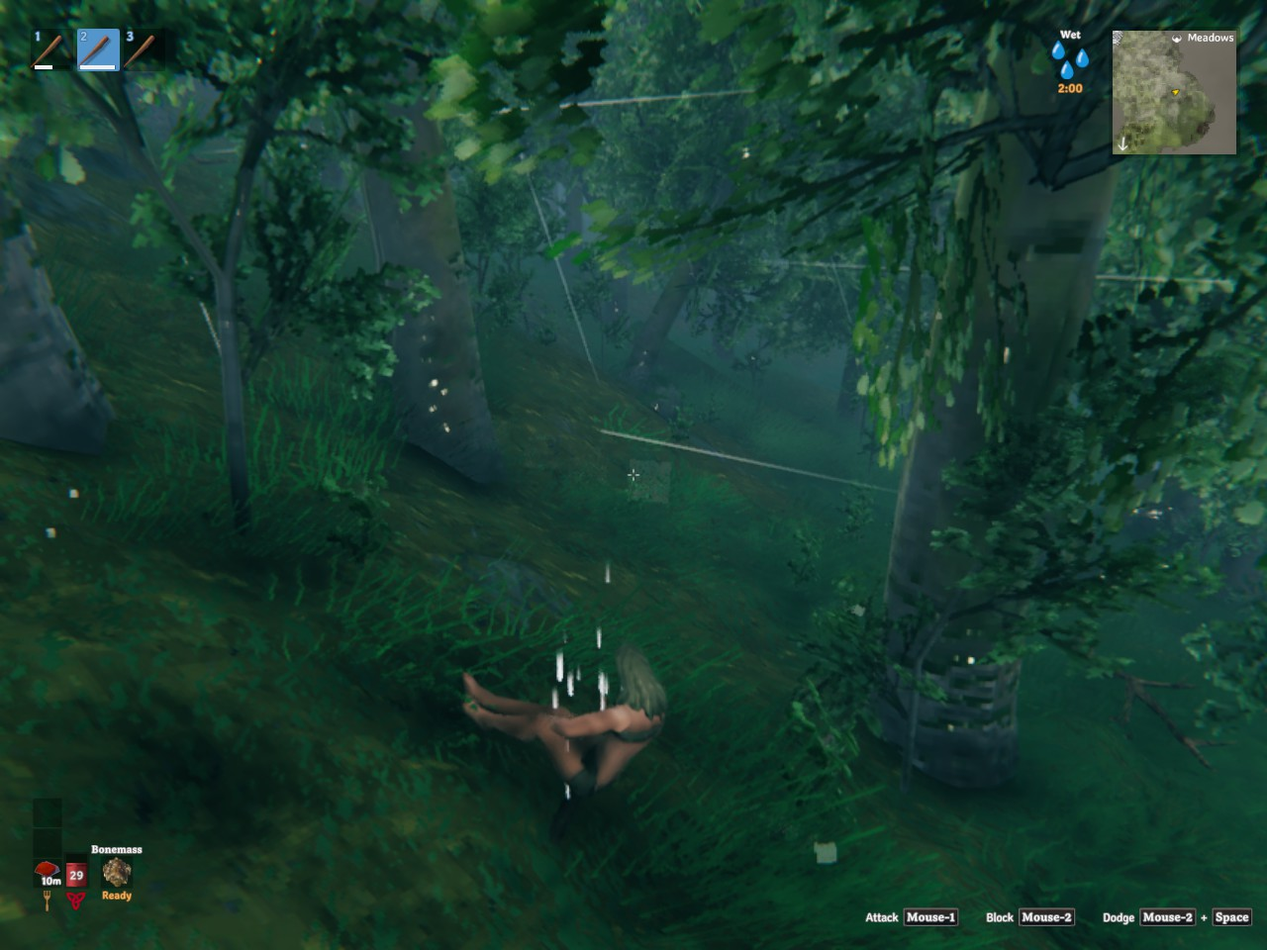Food Indicator: (36, 797, 63, 891)
Health Bar: (63, 820, 90, 891)
Hotbar: (24, 21, 195, 80)
Status Indicator: (1024, 22, 1111, 100)
